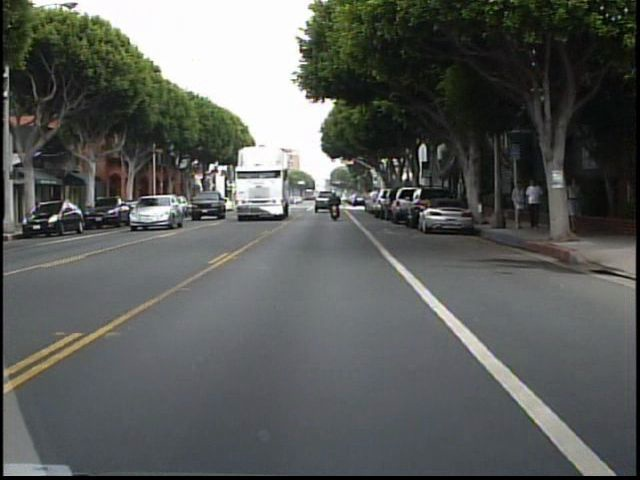person: (564, 173, 584, 234), (525, 175, 545, 230), (509, 177, 527, 231), (325, 187, 345, 219)
